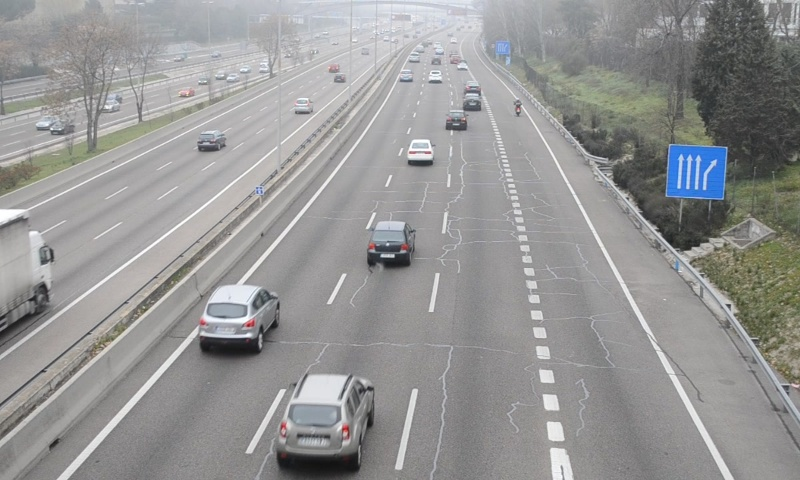car: (276, 372, 374, 462), (200, 284, 278, 338), (367, 220, 415, 263), (406, 138, 434, 163), (444, 110, 468, 130), (463, 94, 482, 110), (426, 68, 444, 84), (464, 80, 482, 94)
motorcycle: (514, 98, 522, 117)
